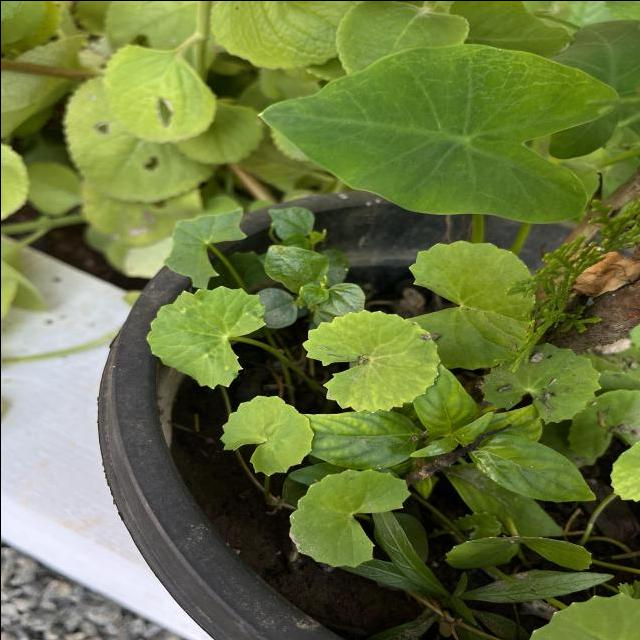Centella asiatica: (401, 236, 537, 371), (300, 306, 442, 414), (284, 464, 414, 570), (143, 281, 268, 391), (471, 339, 604, 427), (217, 392, 315, 477)
